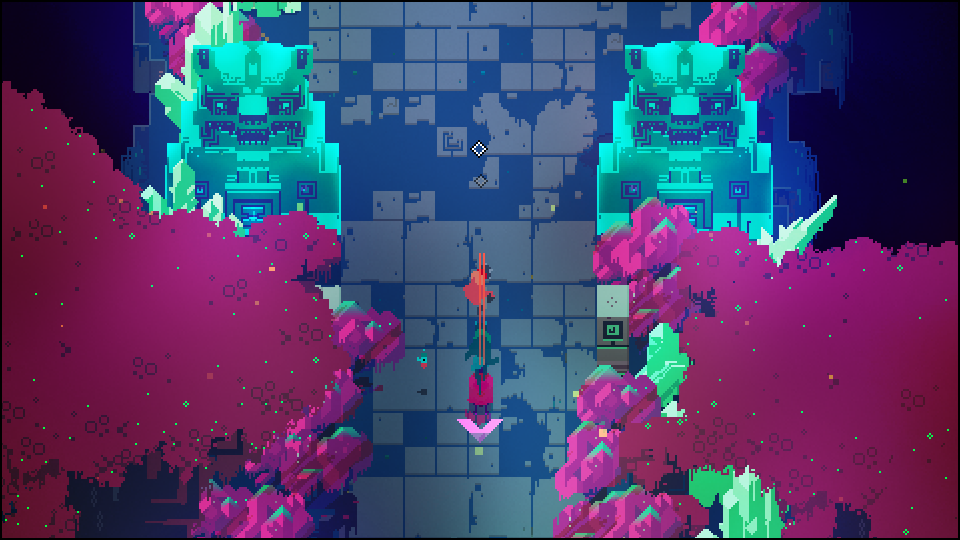player: (455, 262, 496, 313)
